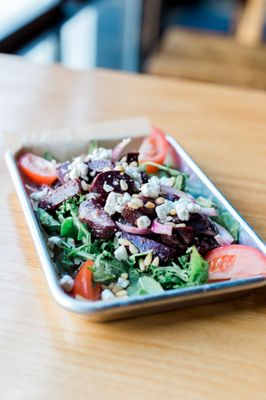sushi: (7, 113, 264, 318)
